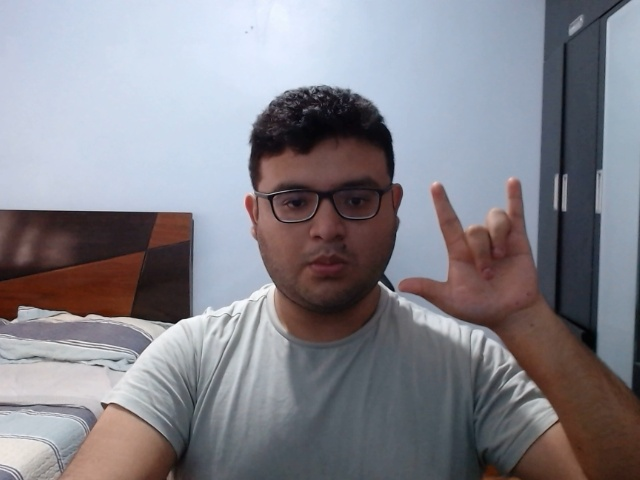I love you: (394, 171, 555, 329)
